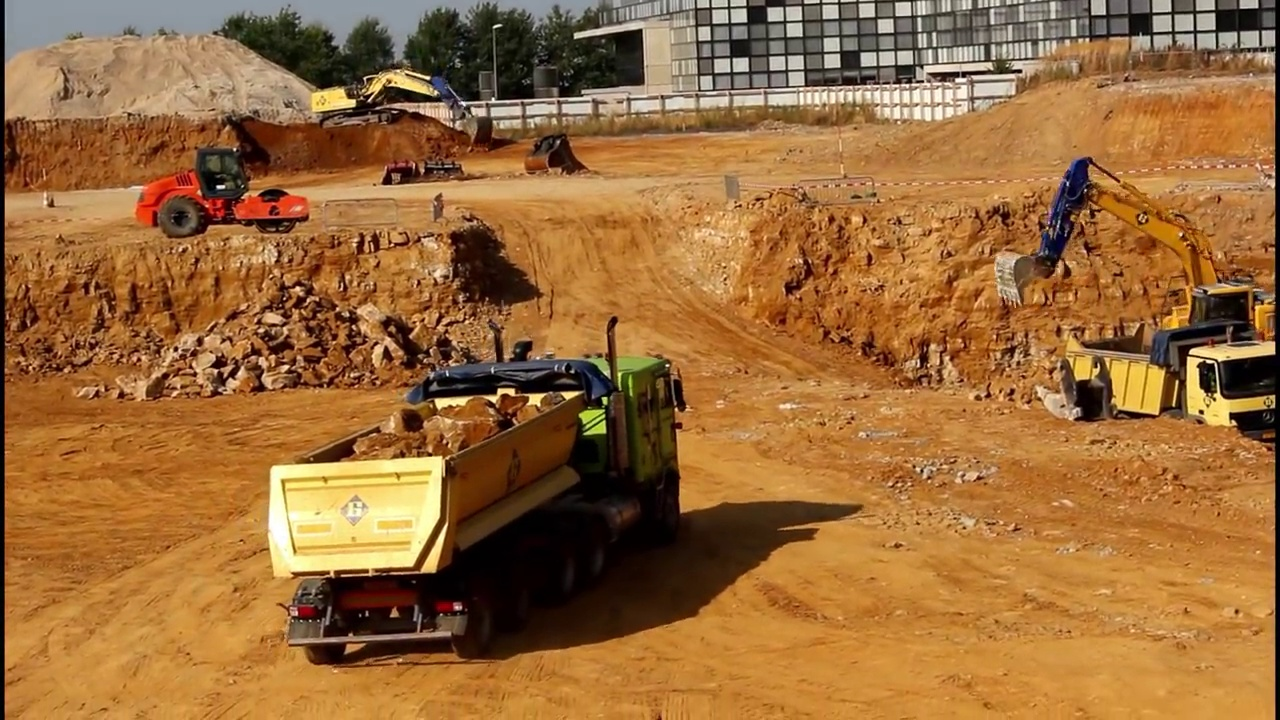compactor: (134, 147, 315, 238)
excavator: (991, 154, 1280, 403), (310, 62, 495, 154)
truck: (265, 310, 693, 664), (1057, 320, 1280, 461)
